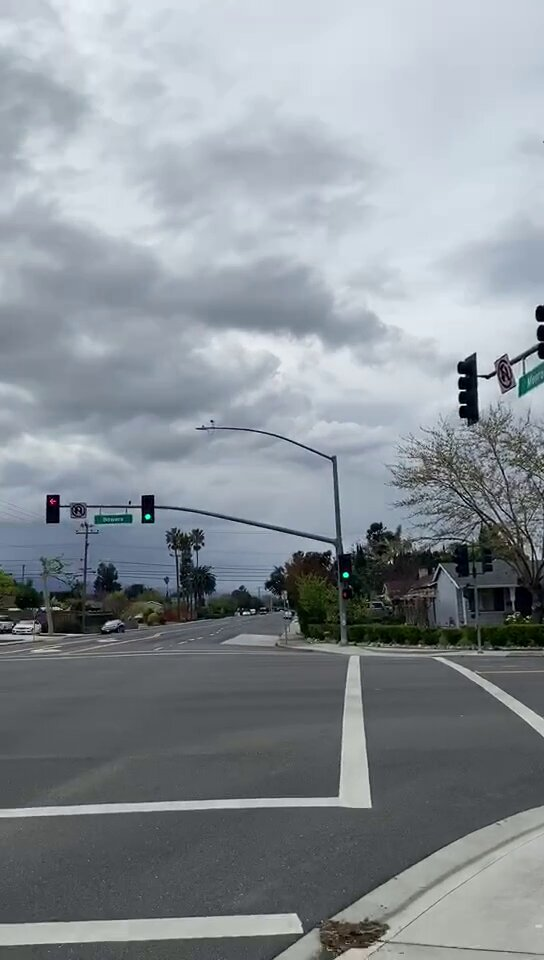green_light: (143, 494, 155, 524), (342, 555, 351, 582)
